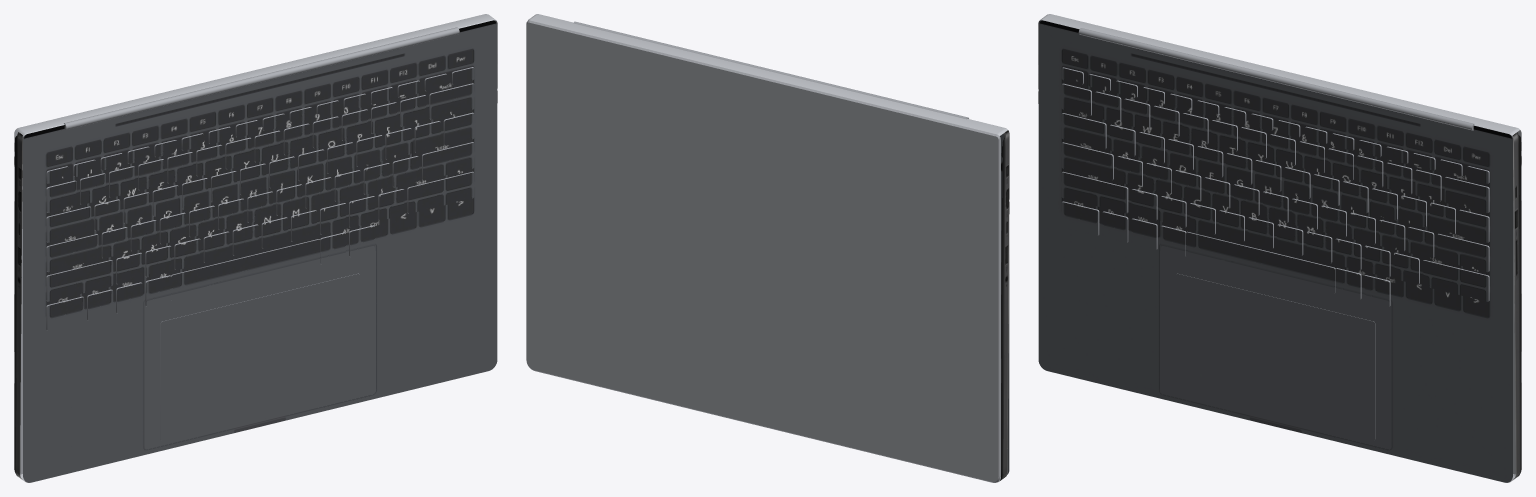
File: body.obj
The picture shows the model from 3 angles, left to right: view 1: azimuth 30°, elevation 25°; view 2: azimuth 150°, elevation 25°; view 3: azimuth 330°, elevation 25°; orthographic projection.
Visible parts, largest first — view 1: deck, keys.001, keys, base.001, hinge, base.003, base; view 2: base, base.001, base.003, hinge, deck; view 3: deck, keys.001, keys, base.001, hinge, base.002, base.
Part boxes in pixels (x1,y1,x2,y2): deck: (23,20,497,482); keys.001: (47,68,474,331); keys: (46,67,473,330); base.001: (16,14,496,482); hinge: (64,27,459,129); base.003: (14,132,23,479); base: (14,130,23,476); base: (526,20,1000,482); base.001: (528,14,1007,482); base.003: (1000,130,1009,480); hinge: (573,21,968,119); deck: (1000,130,1009,474); deck: (1038,20,1512,482); keys.001: (1061,68,1488,306); keys: (1062,67,1489,306); base.001: (1039,14,1519,482); hinge: (1078,28,1474,130); base.002: (1512,132,1521,479); base: (1512,130,1521,476).
Bounding box in the file's own units: 312 × 221 × 12.55.
